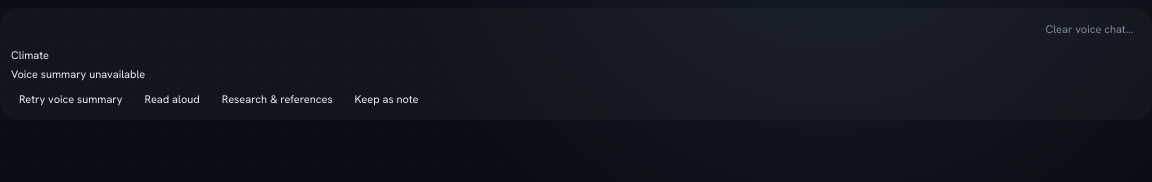
Test case: Space voice work-order integration › keeps a failed synthesis actionable without hiding the research or automatically retrying
Expected: the text "Voice summary unavailable" is shown, x1=11 y1=67 x2=145 y2=81
Click the button "Research & references" at (277, 99), box x1=214 y1=87 x2=341 y2=111
Wait 60000 ms
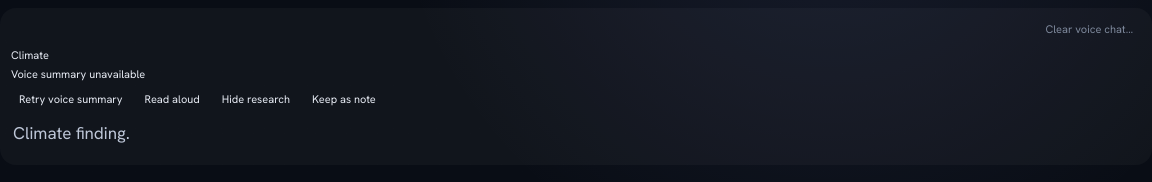
Expected: the text "Climate finding." is shown, x1=13 y1=122 x2=130 y2=144
Click the button "Retry voice summary" at (71, 99), box x1=11 y1=87 x2=131 y2=111
Wait 1000 ms
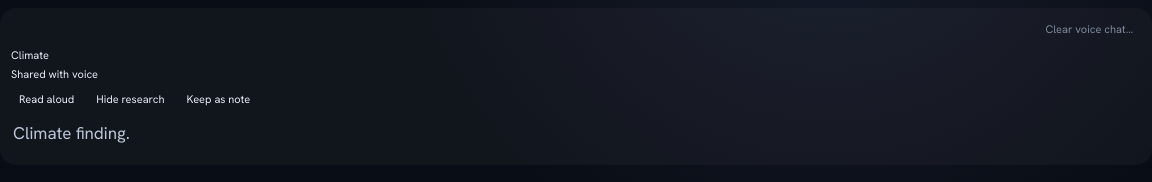
Expected: the text "Shared with voice" is shown, x1=11 y1=67 x2=98 y2=81
Expected: the button "Retry voice summary" is gone
